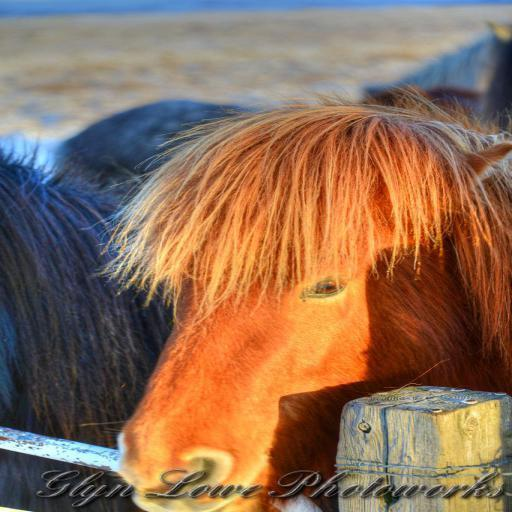horse: (90, 82, 512, 512), (59, 18, 511, 184), (0, 130, 174, 512)
